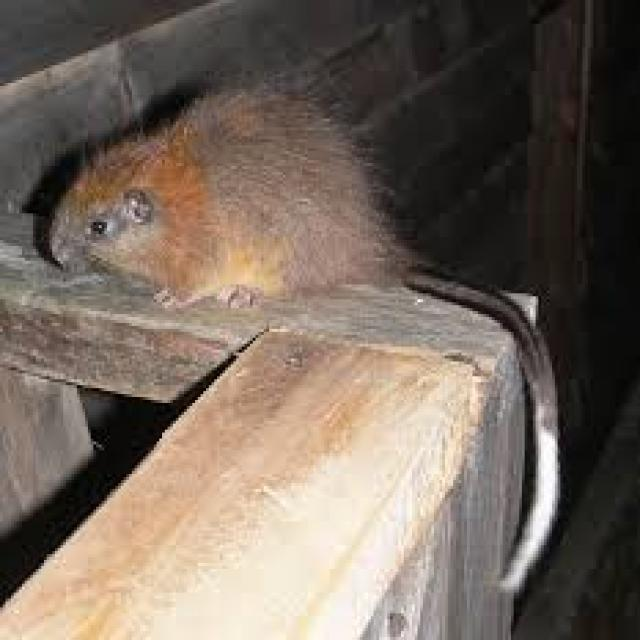Rat: (8, 59, 450, 340)
